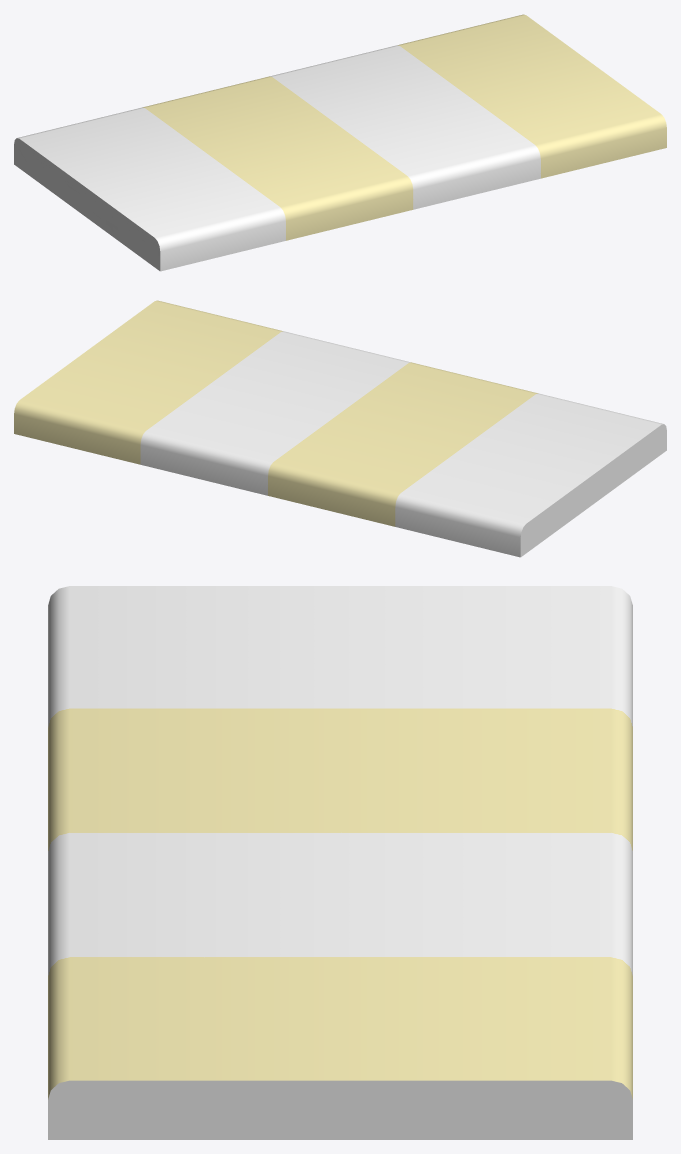
The model's file is RoadStraight1_yellow.fbx.
The picture shows the model from 3 angles, top to bottom: view 1: azimuth 30°, elevation 25°; view 2: azimuth 150°, elevation 25°; view 3: azimuth 270°, elevation 25°; orthographic projection. The views are drawn at different scales.
Visible parts, largest first — view 1: RoadStraight1_yellow; view 2: RoadStraight1_yellow; view 3: RoadStraight1_yellow.
Part boxes in pixels (x1,y1,x2,y2): RoadStraight1_yellow: (14,14,666,271); RoadStraight1_yellow: (14,300,666,557); RoadStraight1_yellow: (48,586,632,1139).
Size of the model in its own units: 600 by 33.61 by 300.
1 material, 1 textured.
